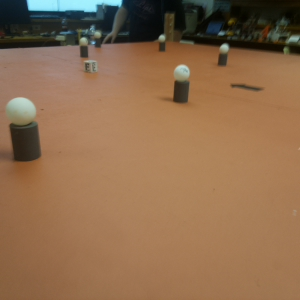obstacle: (7, 95, 45, 163), (173, 65, 190, 106), (217, 42, 231, 69), (79, 37, 89, 61), (158, 35, 167, 53), (94, 31, 102, 49)
